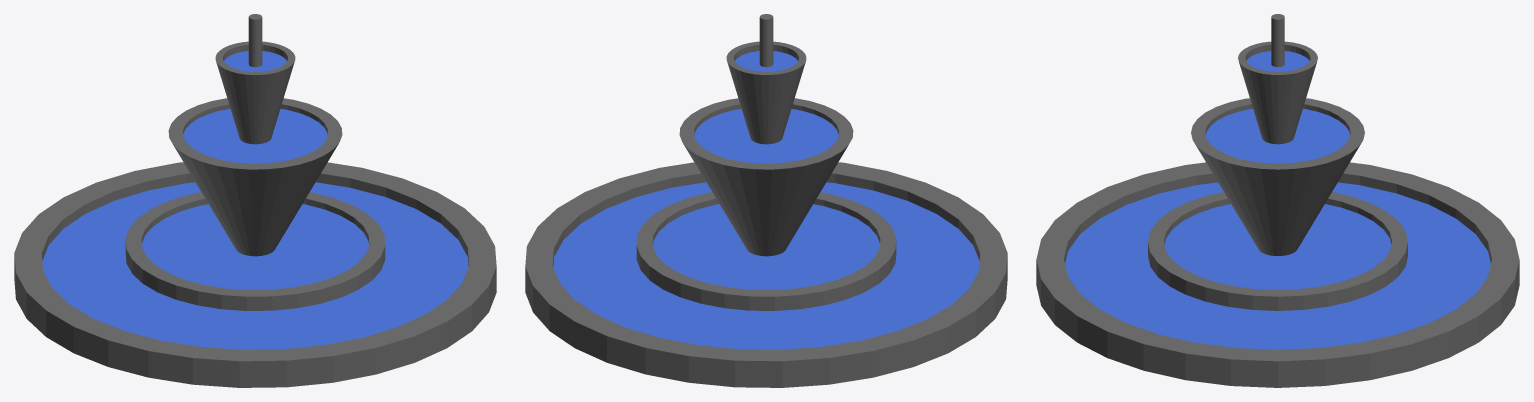
Rendered from Fountain.fbx.
The picture shows the model from 3 angles, left to right: view 1: azimuth 30°, elevation 25°; view 2: azimuth 150°, elevation 25°; view 3: azimuth 270°, elevation 25°; orthographic projection.
Parts seen in each view (by area): view 1: Cylinder, Cylinder.001, Cylinder.002, Cylinder.003, Cylinder.004; view 2: Cylinder, Cylinder.001, Cylinder.002, Cylinder.003, Cylinder.004; view 3: Cylinder, Cylinder.001, Cylinder.002, Cylinder.003, Cylinder.004.
Boxes of the visible parts, x1,y1,x2,y2 form: Cylinder: (14, 14, 496, 387); Cylinder.001: (42, 182, 468, 349); Cylinder.002: (142, 204, 368, 289); Cylinder.003: (183, 108, 327, 163); Cylinder.004: (224, 51, 286, 71); Cylinder: (525, 14, 1007, 387); Cylinder.001: (553, 182, 979, 349); Cylinder.002: (653, 204, 879, 289); Cylinder.003: (694, 108, 838, 163); Cylinder.004: (735, 51, 797, 71); Cylinder: (1036, 14, 1519, 387); Cylinder.001: (1065, 182, 1490, 349); Cylinder.002: (1164, 204, 1391, 289); Cylinder.003: (1206, 108, 1349, 163); Cylinder.004: (1246, 51, 1309, 71).
Bounding box in the file's own units: 1992 × 1225 × 1992.
